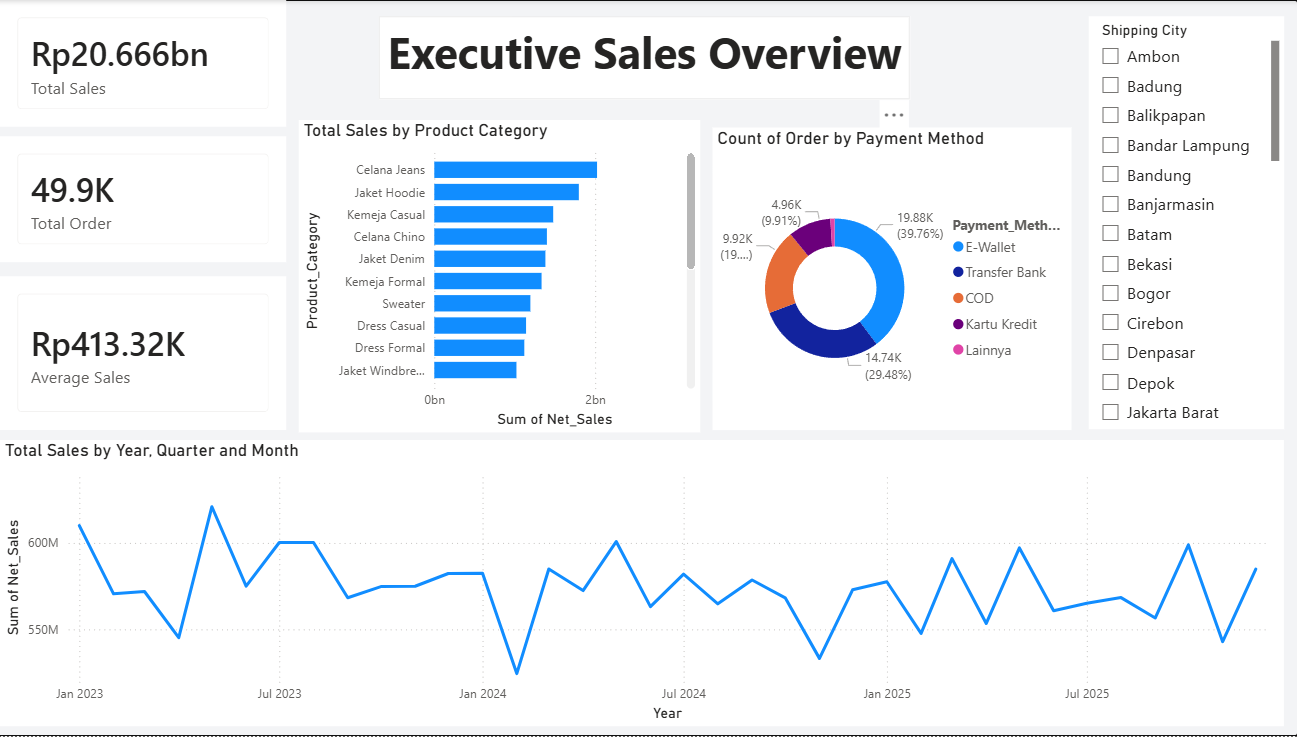

Layout of this report page (visuals, bound fields, positions):
{"tool":"powerbi","page":{"name":"Page 1","canvas":[1280,720],"ordinal":0},"visuals":[{"type":"cardVisual","fields":{"Data":["Sum(ecommerce_cleaned_ready.Net_Sales)"]},"box":[10,0,280,124.3],"z":0},{"type":"cardVisual","fields":{"Data":["Count(ecommerce_cleaned_ready.Order_ID)"]},"box":[10,133.8,280,123.1],"z":1000},{"type":"cardVisual","fields":{"Data":["Avg(ecommerce_cleaned_ready.Net_Sales)"]},"box":[10,270,280,150],"z":2000},{"type":"clusteredBarChart","title":"Total Sales by Product Category","fields":{"Category":["ecommerce_cleaned_ready.Product_Category"],"Y":["Sum(ecommerce_cleaned_ready.Net_Sales)"]},"box":[301.4,117.1,392.9,305.7],"z":3000},{"type":"lineChart","title":"Total Sales by Year, Quarter and Month","fields":{"Y":["Sum(ecommerce_cleaned_ready.Net_Sales)"],"Category":["ecommerce_cleaned_ready.Transaction_Date.Variation.Date Hierarchy.Year","ecommerce_cleaned_ready.Transaction_Date.Variation.Date Hierarchy.Quarter","ecommerce_cleaned_ready.Transaction_Date.Variation.Date Hierarchy.Month"]},"box":[10,430,1255.7,280],"z":4000},{"type":"donutChart","title":"Count of Order by Payment Method","fields":{"Category":["ecommerce_cleaned_ready.Payment_Method"],"Y":["CountNonNull(ecommerce_cleaned_ready.Order_ID)"]},"box":[707.1,124.3,351.4,295.7],"z":5000},{"type":"slicer","fields":{"Values":["ecommerce_cleaned_ready.Shipping_City"]},"box":[1074.3,15.7,191.4,404.3],"z":6000},{"type":"textbox","box":[380,15.7,520,81.4],"z":7000}]}

Visuals, with their boxes in screenshot pixels (x1, y1, x2, y2), scaled from the page's 1280x720 canvas onto the 1297x737 screenshot:
cardVisual - Sum(ecommerce_cleaned_ready.Net_Sales): 10, 0, 294, 127
cardVisual - Count(ecommerce_cleaned_ready.Order_ID): 10, 137, 294, 263
cardVisual - Avg(ecommerce_cleaned_ready.Net_Sales): 10, 276, 294, 430
"Total Sales by Product Category" clusteredBarChart: 305, 120, 704, 433
"Total Sales by Year, Quarter and Month" lineChart: 10, 440, 1283, 727
"Count of Order by Payment Method" donutChart: 716, 127, 1073, 430
slicer - ecommerce_cleaned_ready.Shipping_City: 1089, 16, 1283, 430
textbox: 385, 16, 912, 99
